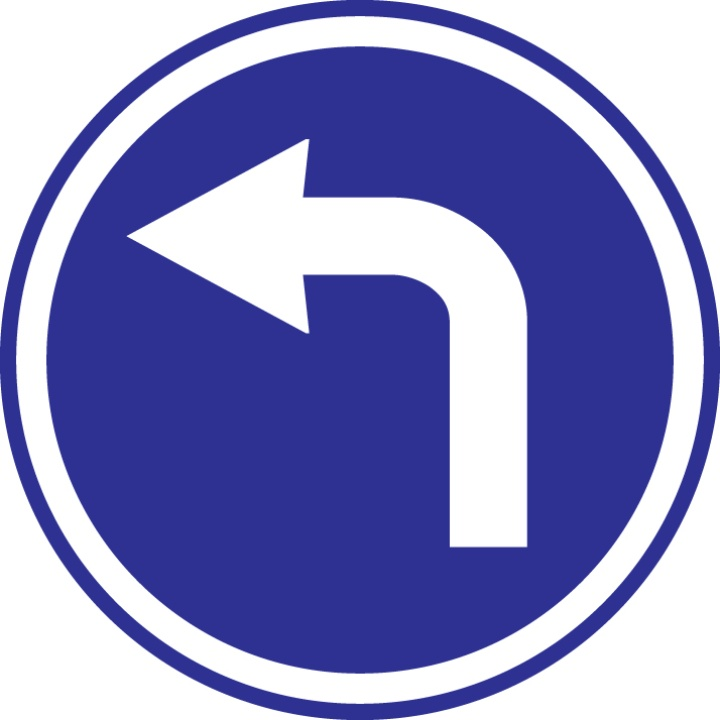left: (106, 118, 565, 561)
